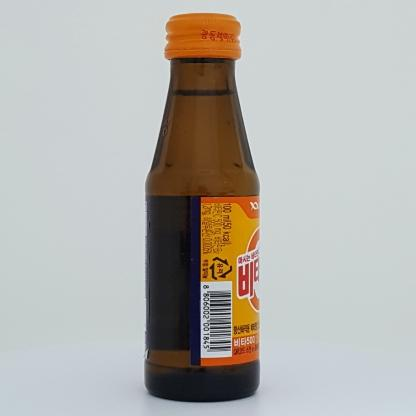-----500---100ML: (144, 12, 260, 402)
